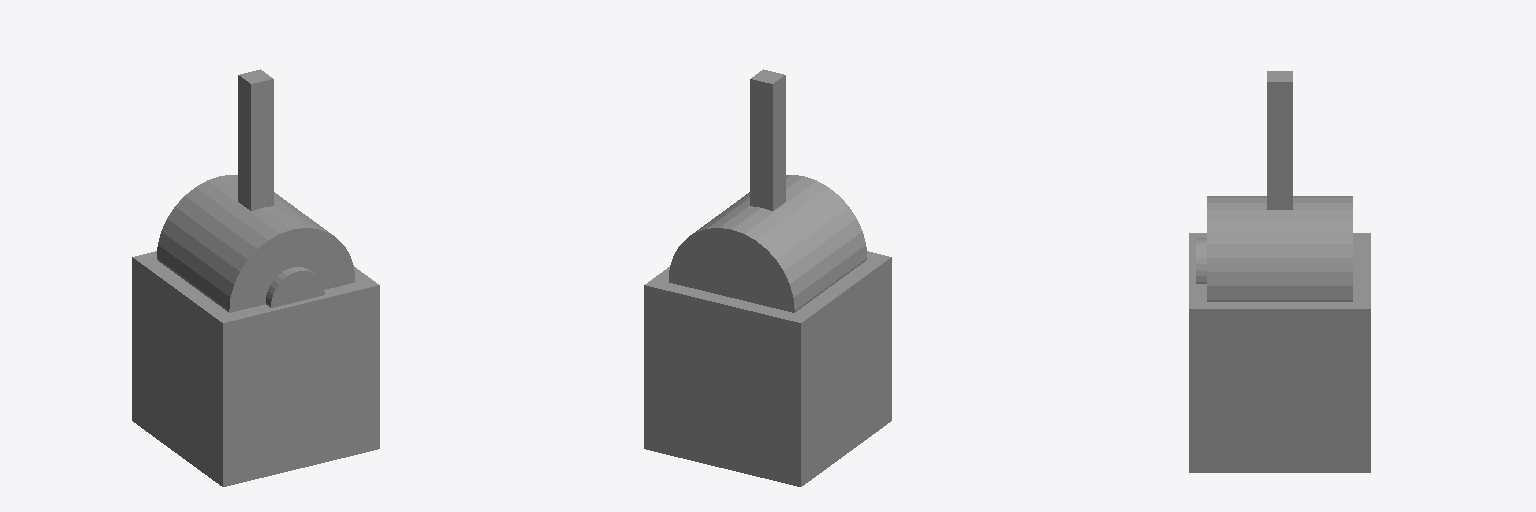
File: canon.obj
3 views of the same model, side by side, from view 1: azimuth 30°, elevation 25°; view 2: azimuth 150°, elevation 25°; view 3: azimuth 270°, elevation 25° (orthographic).
Visible parts, largest first — view 1: Cube; view 2: Cube; view 3: Cube.
Part boxes in pixels (x1,y1,x2,y2): Cube: (132, 69, 379, 486); Cube: (644, 69, 891, 486); Cube: (1189, 71, 1370, 472).
Size of the model in its own units: 2 by 4.37 by 2.